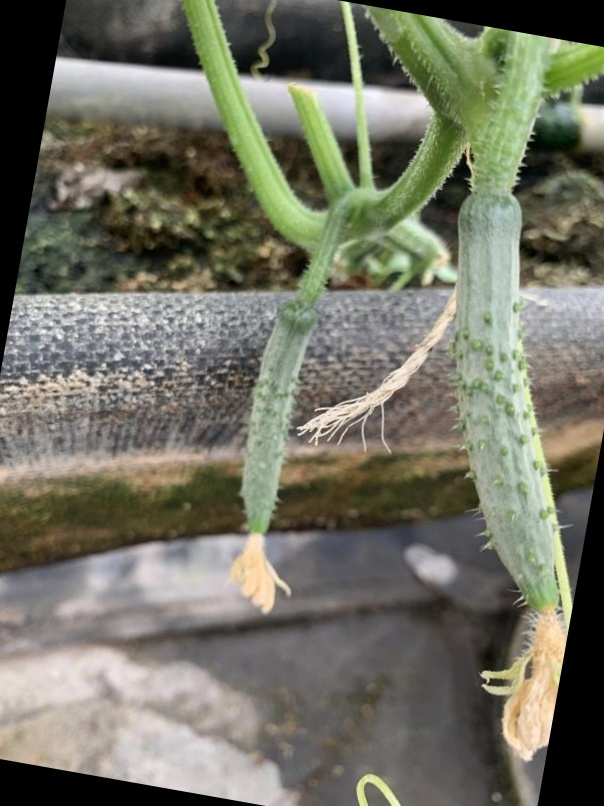bear: (224, 299, 323, 601)
growth: (442, 181, 564, 652)
